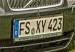2: (52, 18, 58, 31)
3: (57, 17, 63, 31)
4: (47, 18, 53, 32)
F: (19, 21, 25, 35)
S: (25, 20, 31, 35)
X: (36, 20, 41, 34)
Y: (41, 19, 46, 33)
